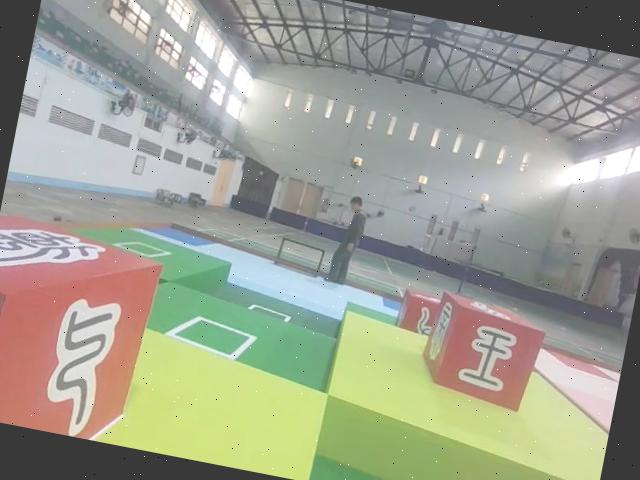R2 Fake: (0, 209, 167, 447), (417, 288, 548, 414)
R2 Real: (392, 283, 446, 343)
